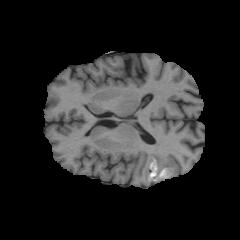glioma: (144, 151, 181, 184)
